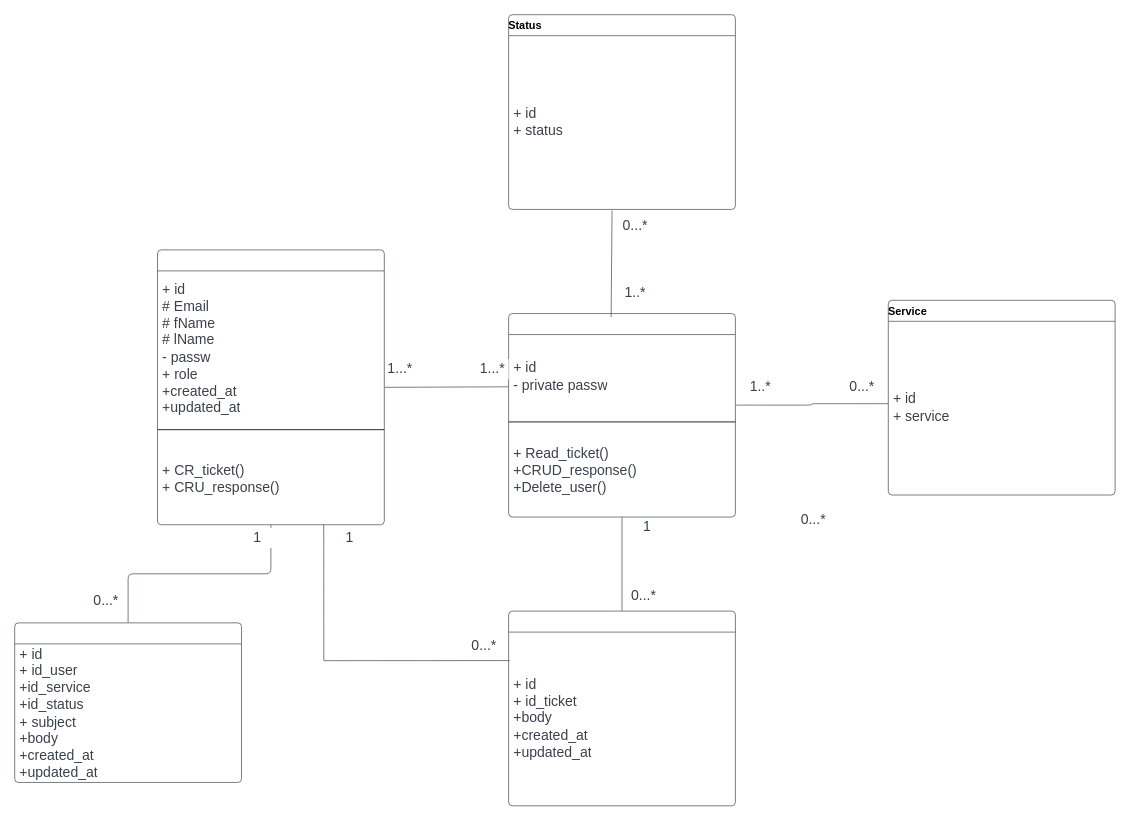
Image size: 1130x821. Some labels were removed from this diagram. The box of each missing label's shape, as (x1, y1, x2, y2) in pixels:
admin: (508, 313, 735, 517)
Answer: (508, 610, 735, 806)
ticket: (14, 622, 241, 782)
User: (157, 249, 384, 525)
